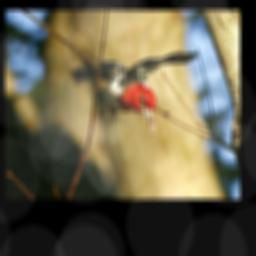Woodpecker: (70, 44, 205, 137)
